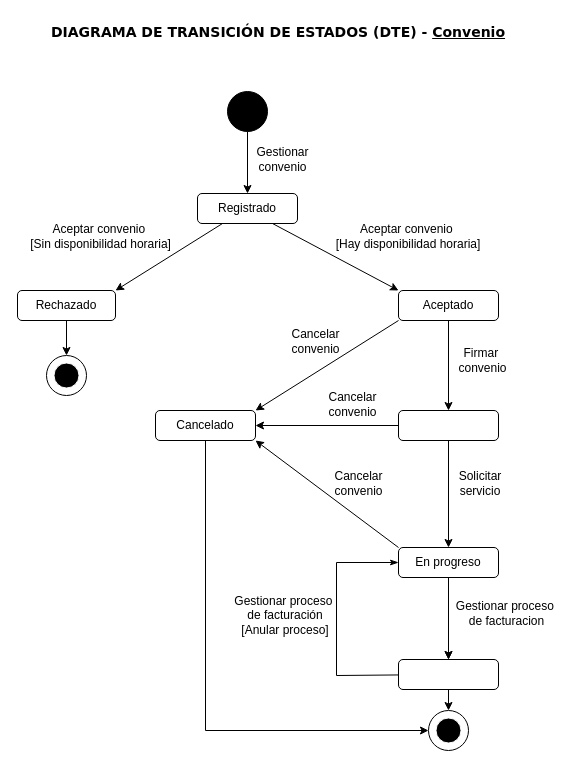
The diagram is 579 pixels wide and 768 high, and some of its shapes have lost their labels. The shapes that lost their labels are listed below. From the top down, each one's centre as x and y in pixels, then its label:
At pixel 448 425: "Firmado".
At pixel 448 674: "Terminado".
